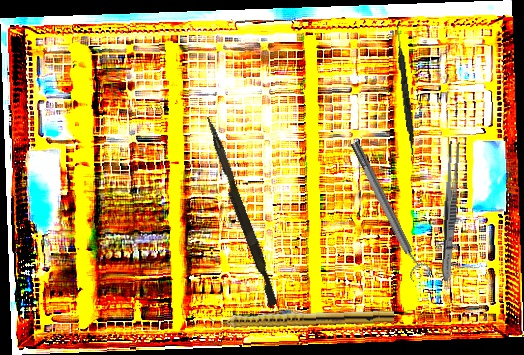Dressing Forceps: (439, 140, 461, 282)
Fixation Ring: (344, 136, 433, 284)
Handpiece: (208, 306, 395, 330)
Pusher: (198, 115, 283, 307)
Spatula Surgical: (391, 20, 420, 162)
